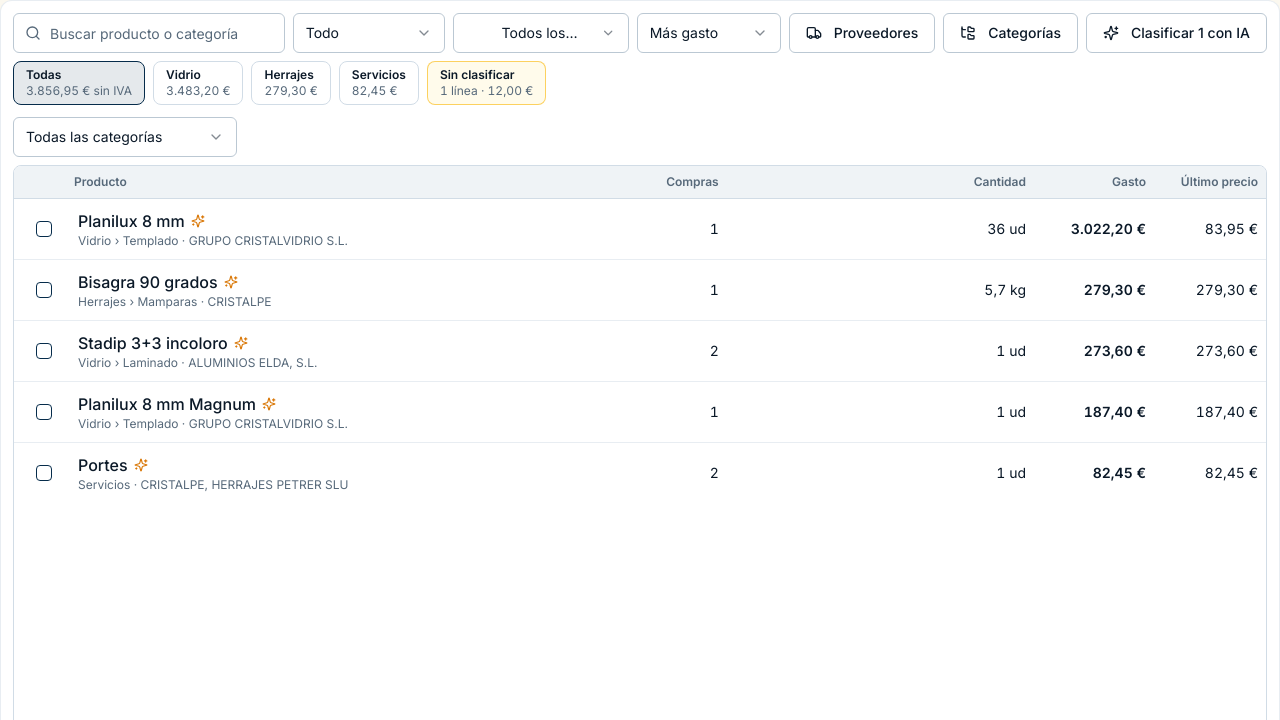
Test: TabProductos › «Sin clasificar» enseña las líneas sin producto
Expected: the text "Planilux 8 mm" is shown, [78, 209, 185, 233]
Click the button "Sin clasificar 1 línea · 12,00 €".
click(486, 83)  # box [427, 61, 546, 105]
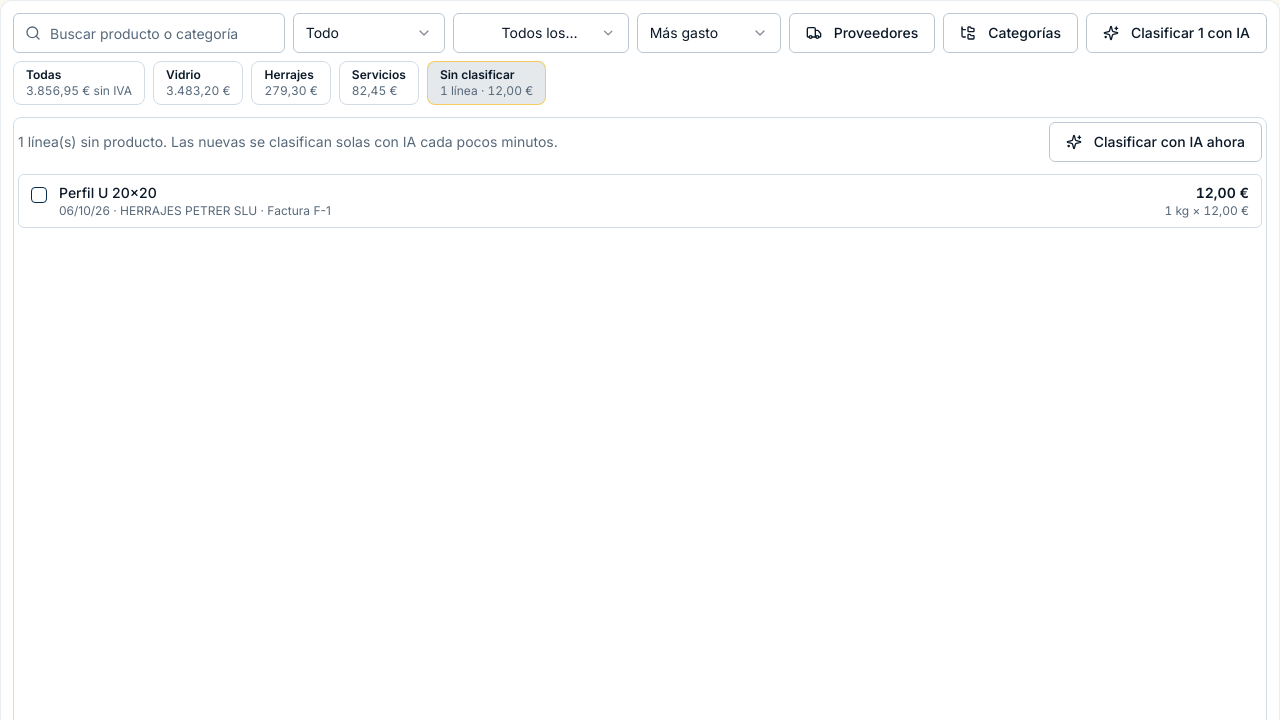
Result: the text "Perfil U 20x20" is shown at [59, 184, 157, 201]
Result: the button "Clasificar con IA ahora" is shown at [1049, 122, 1262, 162]
